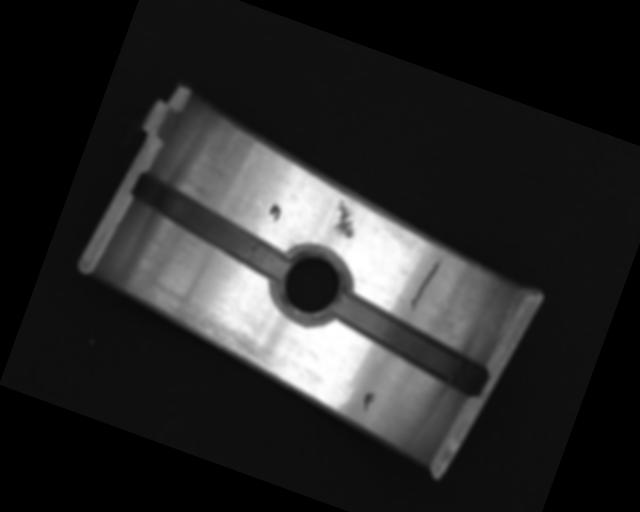blot: (264, 201, 285, 225)
bruise: (327, 198, 363, 240), (359, 390, 376, 413)
gap: (120, 171, 301, 283), (324, 288, 497, 397)
hole: (264, 239, 358, 334)
nick: (408, 250, 444, 314)
scratch: (135, 280, 287, 374)
